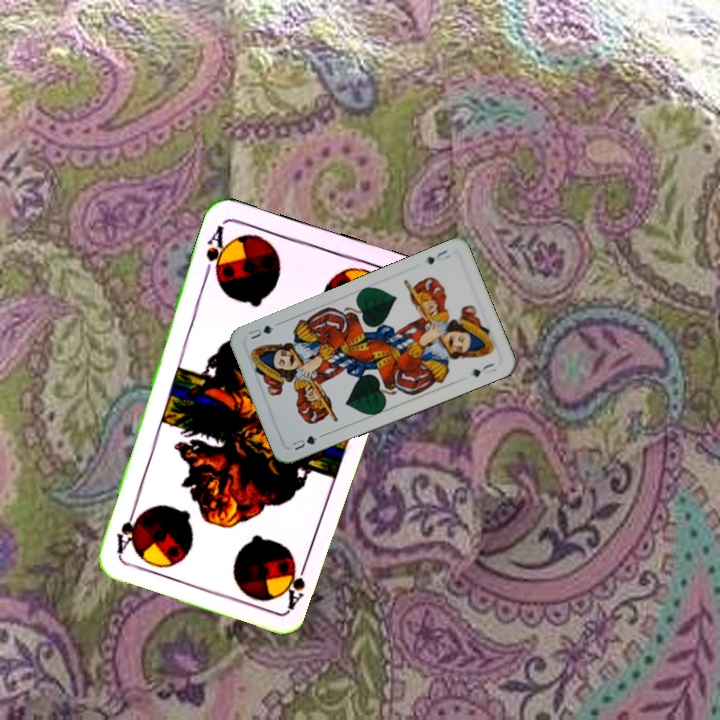GU: (288, 431, 320, 453), (423, 246, 453, 267)
SA: (201, 221, 232, 281), (282, 554, 311, 612)
